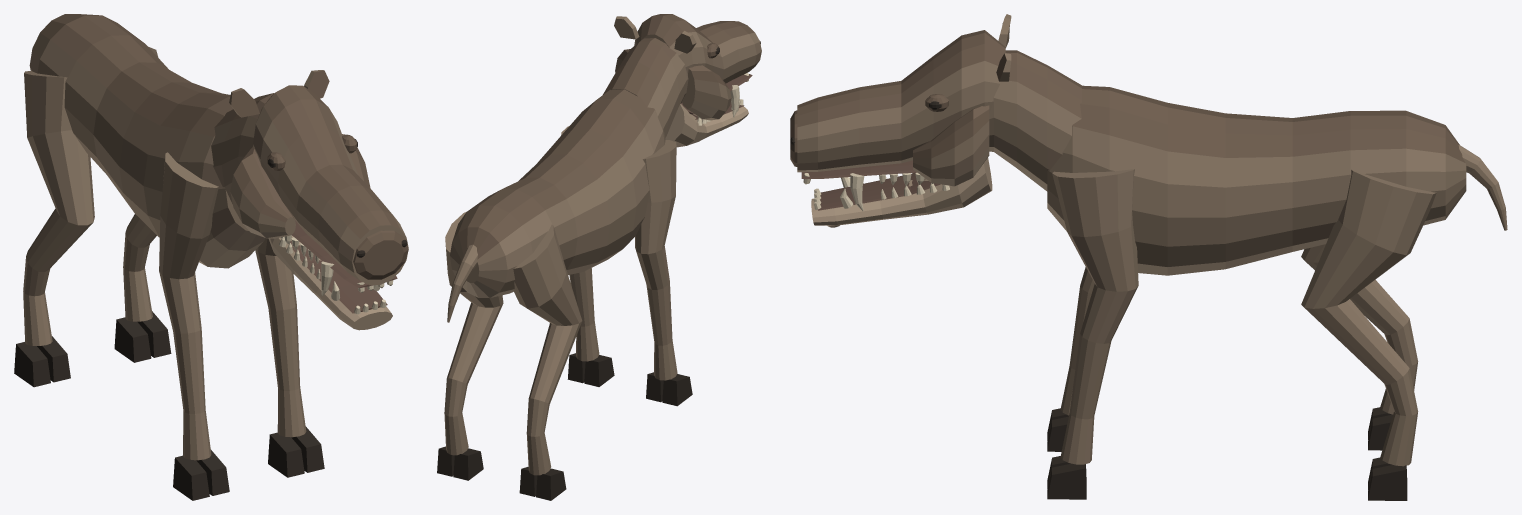
3 renders of one model, left to right at view 1: azimuth 30°, elevation 25°; view 2: azimuth 150°, elevation 25°; view 3: azimuth 270°, elevation 25°, orthographic. The views are drawn at different scales.
Parts seen in each view (by area): view 1: Torso, Forelimbs, Deep_skull, Hindlimbs, Paired_hooves, Lateral_cheek_flanges, Neck, Mandible, Nasal_pad, Jaw_lining, Ears, Oral_surfaces (+2 smaller); view 2: Torso, Hindlimbs, Forelimbs, Paired_hooves, Deep_skull, Neck, Lateral_cheek_flanges, Mandible, Tail, Ears; view 3: Torso, Hindlimbs, Deep_skull, Forelimbs, Neck, Paired_hooves, Lateral_cheek_flanges, Mandible, Jaw_lining, Tail, Oral_surfaces.
Boxes of the visible parts, x1=… form: Torso: x1=29, y1=14, x2=265, y2=268; Forelimbs: x1=159, y1=152, x2=306, y2=460; Deep_skull: x1=253, y1=85, x2=408, y2=285; Hindlimbs: x1=23, y1=47, x2=158, y2=345; Paired_hooves: x1=14, y1=311, x2=324, y2=500; Lateral_cheek_flanges: x1=230, y1=134, x2=370, y2=238; Neck: x1=211, y1=93, x2=274, y2=203; Mandible: x1=268, y1=236, x2=392, y2=330; Nasal_pad: x1=353, y1=230, x2=408, y2=279; Jaw_lining: x1=289, y1=241, x2=387, y2=313; Ears: x1=229, y1=70, x2=329, y2=117; Oral_surfaces: x1=291, y1=220, x2=397, y2=287; Torso: x1=450, y1=89, x2=665, y2=297; Hindlimbs: x1=444, y1=212, x2=582, y2=475; Forelimbs: x1=561, y1=126, x2=677, y2=380; Paired_hooves: x1=437, y1=353, x2=692, y2=500; Deep_skull: x1=634, y1=14, x2=761, y2=83; Neck: x1=603, y1=38, x2=688, y2=137; Lateral_cheek_flanges: x1=615, y1=49, x2=731, y2=120; Mandible: x1=665, y1=104, x2=748, y2=147; Tail: x1=447, y1=244, x2=477, y2=322; Ears: x1=614, y1=16, x2=696, y2=53; Torso: x1=1047, y1=85, x2=1466, y2=275; Hindlimbs: x1=1301, y1=170, x2=1436, y2=466; Deep_skull: x1=797, y1=30, x2=1005, y2=172; Forelimbs: x1=1052, y1=169, x2=1138, y2=464; Neck: x1=989, y1=50, x2=1081, y2=191; Paired_hooves: x1=1047, y1=407, x2=1407, y2=500; Lateral_cheek_flanges: x1=913, y1=105, x2=989, y2=186; Mandible: x1=811, y1=158, x2=992, y2=225; Jaw_lining: x1=818, y1=172, x2=940, y2=210; Tail: x1=1458, y1=145, x2=1507, y2=230; Oral_surfaces: x1=801, y1=160, x2=916, y2=178.
Size of the model in its own units: 0.71 by 2.07 by 3.1.
